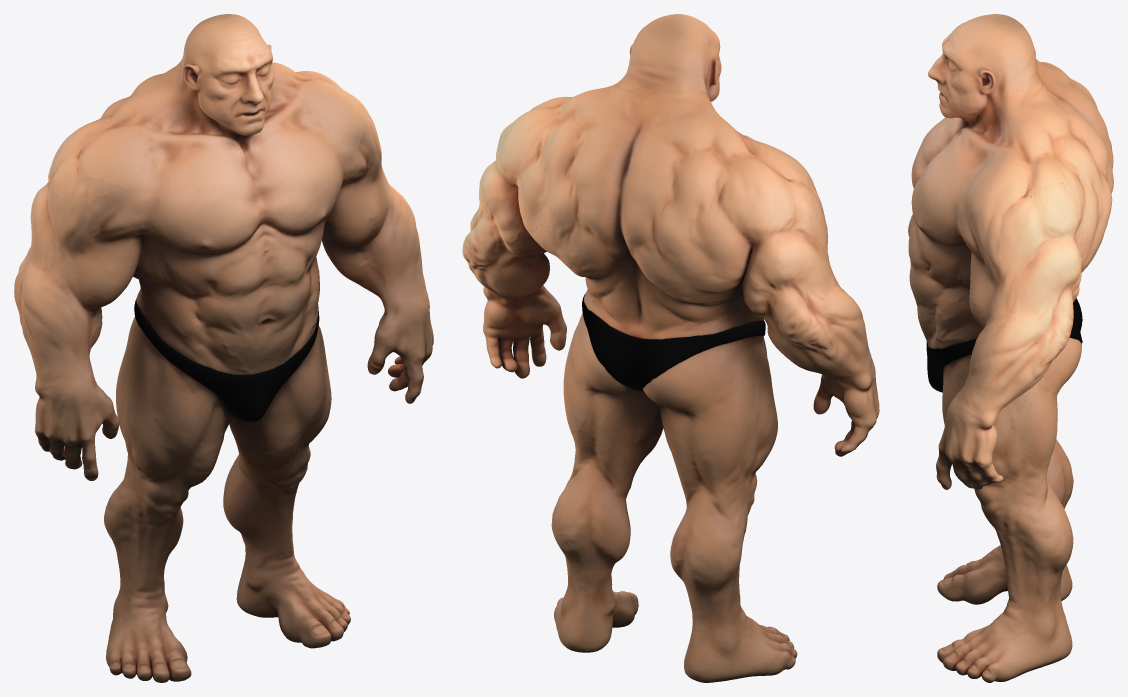
3 renders of one model, left to right at view 1: azimuth 30°, elevation 25°; view 2: azimuth 150°, elevation 25°; view 3: azimuth 270°, elevation 25°, orthographic. The views are drawn at different scales.
Visible parts, largest first — view 1: Object_2, Object_3, Object_4; view 2: Object_2, Object_3, Object_4; view 3: Object_3, Object_2, Object_4.
Boxes of the visible parts, left/top/right/bottom form: Object_2: left=14, top=14, right=431, bottom=682; Object_3: left=43, top=14, right=433, bottom=680; Object_4: left=134, top=299, right=319, bottom=421; Object_2: left=509, top=17, right=879, bottom=682; Object_3: left=462, top=14, right=838, bottom=681; Object_4: left=582, top=294, right=765, bottom=391; Object_3: left=909, top=14, right=1108, bottom=681; Object_2: left=908, top=14, right=1113, bottom=682; Object_4: left=926, top=298, right=1082, bottom=392.
Size of the model in its own units: 139 by 213 by 64.71.
2 materials, 1 textured.
